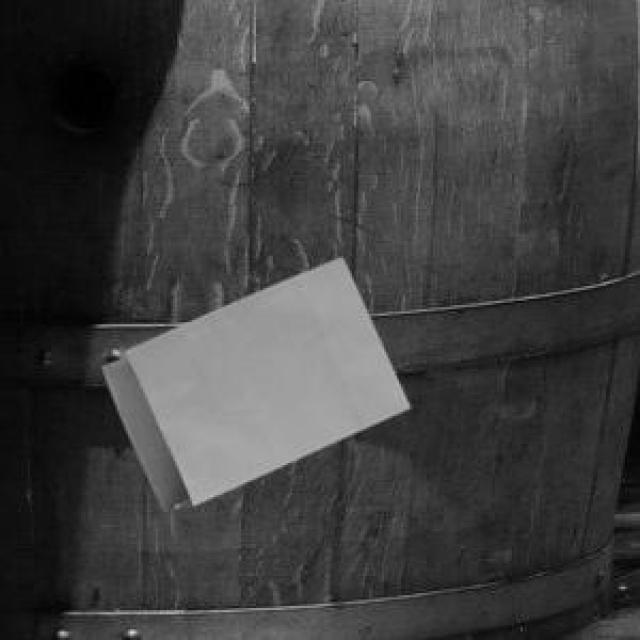paper: (98, 254, 405, 508)
